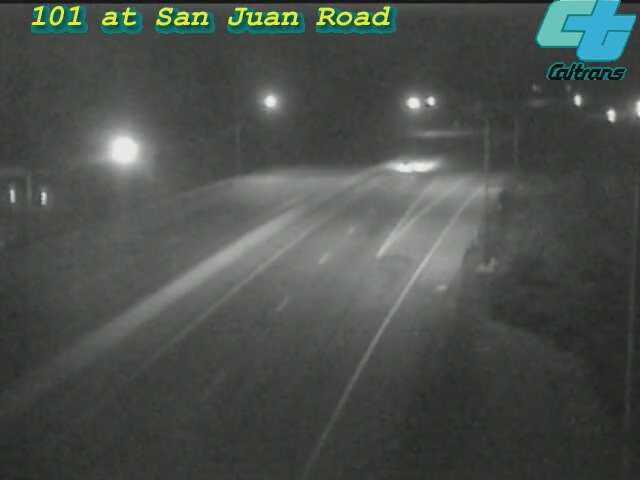vehicle: (369, 126, 449, 206), (588, 91, 638, 141), (612, 84, 640, 134)
